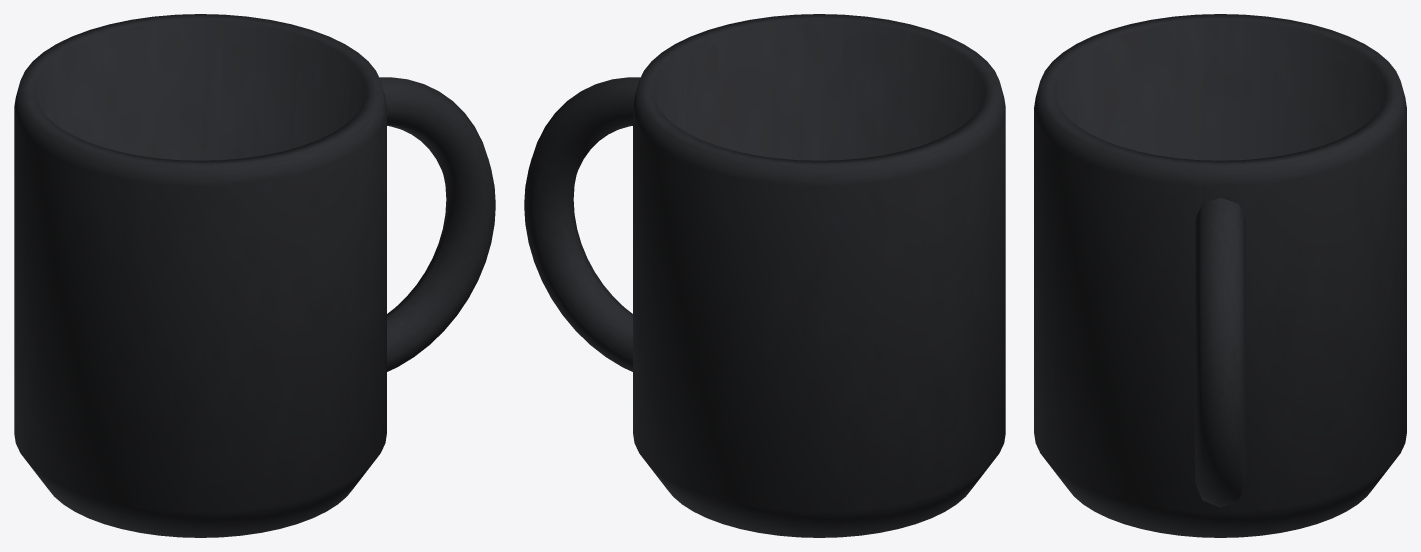
Rendered from PRP_Mug_01.fbx.
3 views of the same model, side by side, from view 1: azimuth 30°, elevation 25°; view 2: azimuth 150°, elevation 25°; view 3: azimuth 270°, elevation 25° (orthographic).
Parts seen in each view (by area): view 1: PRP_Mug_01_Export; view 2: PRP_Mug_01_Export; view 3: PRP_Mug_01_Export.
Part boxes in pixels (x1,y1,x2,y2): PRP_Mug_01_Export: (14,14,495,537); PRP_Mug_01_Export: (524,14,1005,537); PRP_Mug_01_Export: (1034,14,1406,537).
Bounding box in the file's own units: 0.1125 × 0.09 × 0.08.
1 material, 1 textured.
